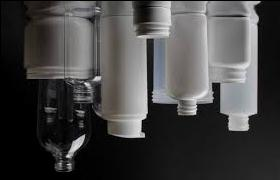Plastic: (130, 3, 172, 38)
